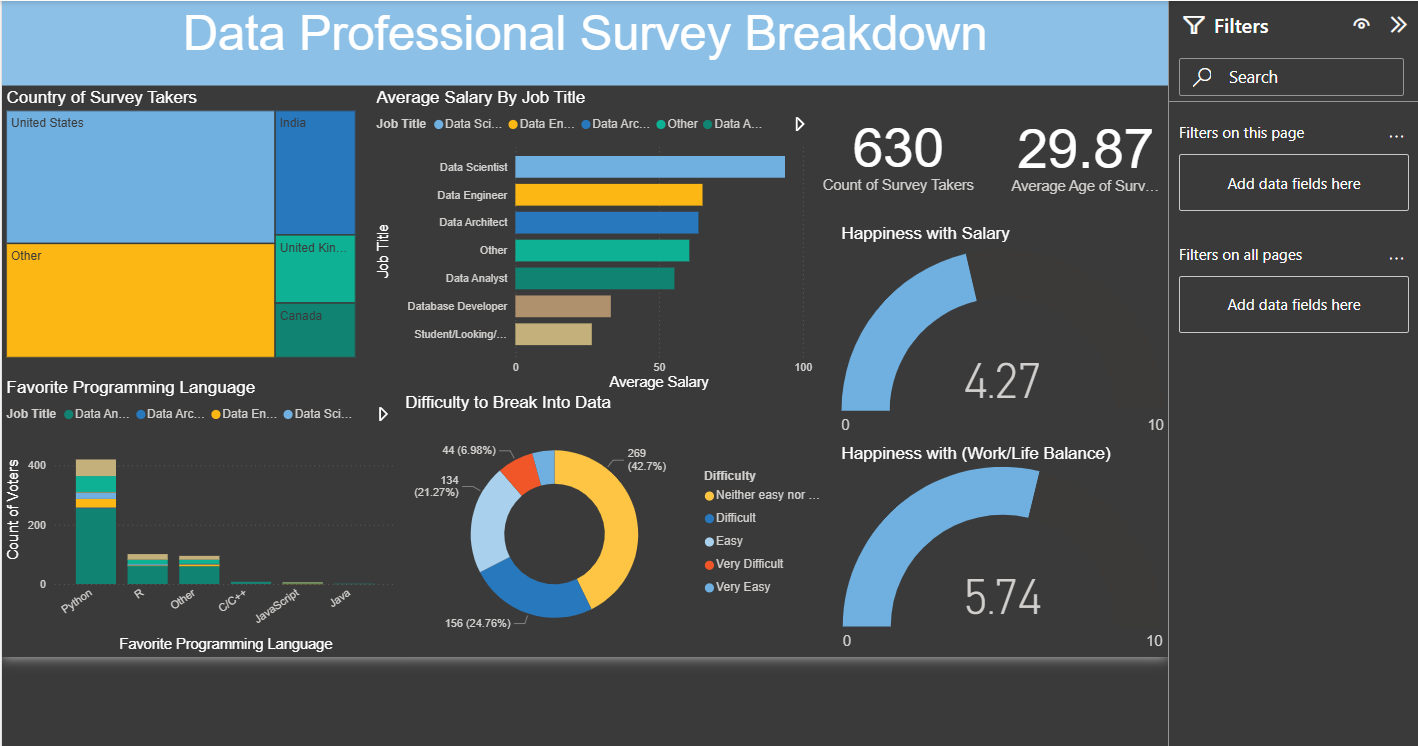

The dashboard page shown, as its layout file describes it:
{"tool":"powerbi","page":{"name":"Page 1","canvas":[1280,720],"ordinal":0},"visuals":[{"type":"textbox","box":[10,0,280,280],"z":0},{"type":"textbox","box":[10,290,280,280],"z":1000},{"type":"textbox","box":[0,0,1280.3,93.2],"z":2000},{"type":"card","fields":{"Values":["CountNonNull(Data Professional Survey.Unique ID)"]},"box":[867,92.9,233.8,144],"z":3000},{"type":"card","fields":{"Values":["Avg(Data Professional Survey.Q10 - Current Age)"]},"box":[1099.2,94.4,181.1,142.4],"z":4000},{"type":"barChart","title":"Average Salary By Job Title","fields":{"Category":["Data Professional Survey.Q1 - Which Title Best Fits your Current Role?.1"],"Y":["Avg(Data Professional Survey.Average Salary)"],"Series":["Data Professional Survey.Q1 - Which Title Best Fits your Current Role?.1"]},"box":[405.6,94.4,489.2,337.5],"z":5000},{"type":"columnChart","title":"Favorite Programming Language ","fields":{"Category":["Data Professional Survey.Q5 - Favorite Programming Language.1"],"Y":["CountNonNull(Data Professional Survey.Unique ID)"],"Series":["Data Professional Survey.Q1 - Which Title Best Fits your Current Role?.1"]},"box":[0,413.4,438.1,306.5],"z":6000},{"type":"treemap","title":"Country of Survey Takers","fields":{"Group":["Data Professional Survey.Q11 - Which Country do you live in?.1"],"Values":["CountNonNull(Data Professional Survey.Q11 - Which Country do you live in?.1)"]},"box":[0,94.4,393.2,301.9],"z":7000},{"type":"gauge","title":"Happiness with Salary","fields":{"Y":["Avg(Data Professional Survey.Q6 - How Happy are you in your Current Position with the following? (Salary))"],"MinValue":["Min(Data Professional Survey.Q6 - How Happy are you in your Current Position with the following? (Salary))"],"MaxValue":["Max(Data Professional Survey.Q6 - How Happy are you in your Current Position with the following? (Salary))1"]},"box":[916.5,244.6,363.8,241.5],"z":8000},{"type":"gauge","title":"Happiness with (Work/Life Balance)","fields":{"Y":["Avg(Data Professional Survey.Q6 - How Happy are you in your Current Position with the following? (Work/Life Balance))"],"MinValue":["Min(Data Professional Survey.Q6 - How Happy are you in your Current Position with the following? (Work/Life Balance))"],"MaxValue":["Max(Data Professional Survey.Q6 - How Happy are you in your Current Position with the following? (Work/Life Balance))1"]},"box":[916.5,486.1,363.8,233.8],"z":9000},{"type":"donutChart","title":"Difficulty to Break Into Data","fields":{"Y":["CountNonNull(Data Professional Survey.Q7 - How difficult was it for you to break into Data?)"],"Series":["Data Professional Survey.Q7 - How difficult was it for you to break into Data?"],"Category":["Data Professional Survey.Q7 - How difficult was it for you to break into Data?"]},"box":[438.1,413.4,478.4,306.5],"z":10000}]}

Visuals, with their boxes on the page's 1280x720 design canvas (x1, y1, x2, y2). These are canvas units, not pixel positions in the 1418x746 screenshot, which may show the page scaled, cropped or inside an application window:
textbox: 10,0,290,280
textbox: 10,290,290,570
textbox: 0,0,1280,93
card - CountNonNull(Data Professional Survey.Unique ID): 867,93,1101,237
card - Avg(Data Professional Survey.Q10 - Current Age): 1099,94,1280,237
"Average Salary By Job Title" barChart: 406,94,895,432
"Favorite Programming Language " columnChart: 0,413,438,720
"Country of Survey Takers" treemap: 0,94,393,396
"Happiness with Salary" gauge: 916,245,1280,486
"Happiness with (Work/Life Balance)" gauge: 916,486,1280,720
"Difficulty to Break Into Data" donutChart: 438,413,916,720
